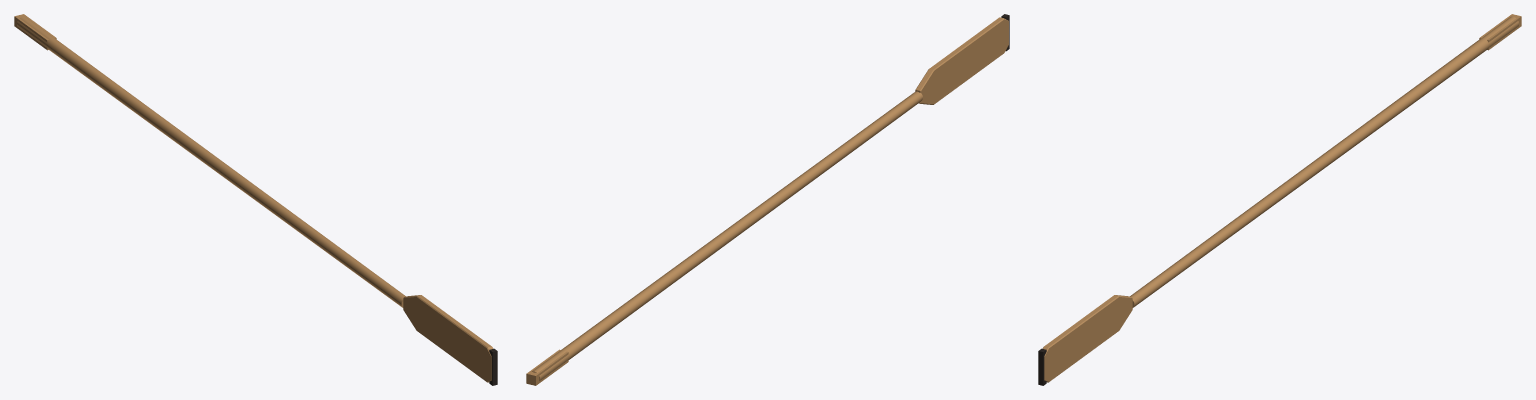
The model's file is oar.glb.
3 views of the same model, side by side, from view 1: azimuth 30°, elevation 25°; view 2: azimuth 150°, elevation 25°; view 3: azimuth 330°, elevation 25° (orthographic).
Parts seen in each view (by area): view 1: beech0, beech2; view 2: beech0, beech2, beech1; view 3: beech0, beech2.
Part boxes in pixels (x1,y1,x2,y2): beech0: [17, 16, 405, 307]; beech2: [403, 295, 493, 382]; beech0: [532, 91, 922, 380]; beech2: [915, 17, 1008, 104]; beech1: [526, 349, 568, 385]; beech0: [1130, 16, 1518, 307]; beech2: [1042, 295, 1132, 382].
Size of the model in its own units: 0.0571 by 0.178 by 4.34.
